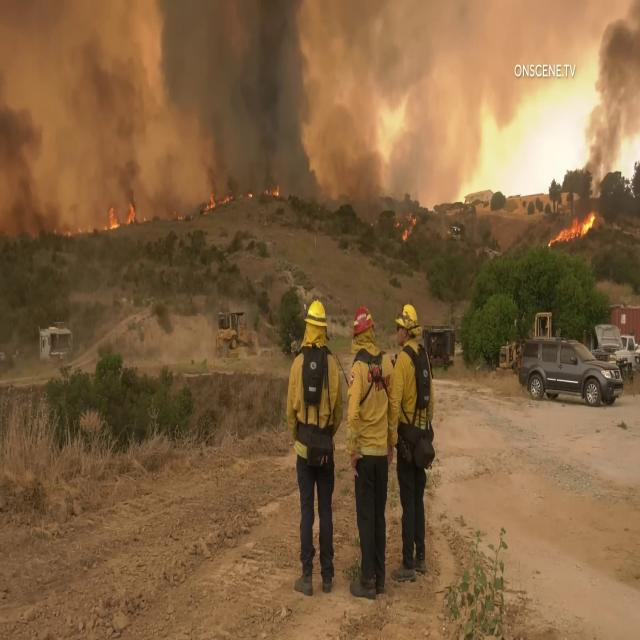smoke: (589, 23, 634, 168)
